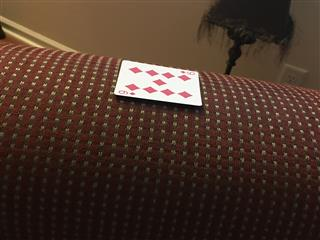NineOfDiamonds: (112, 59, 203, 106)
